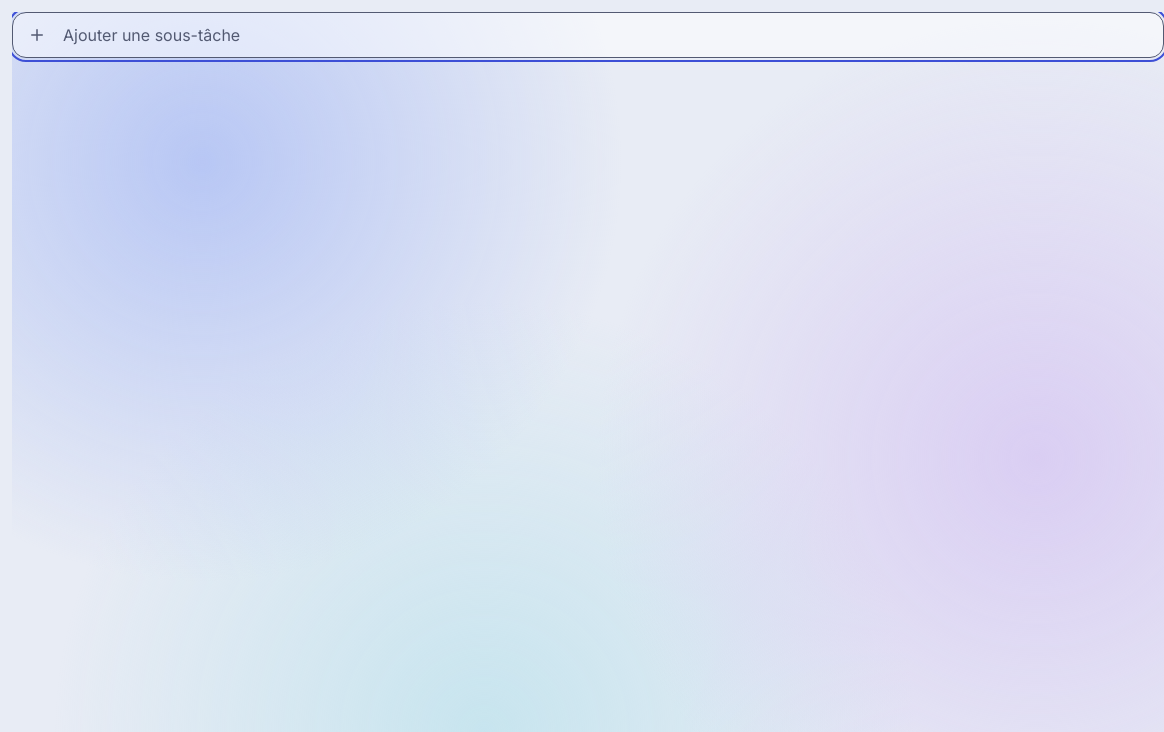
Test: SubtaskAddField › échec : message sous le champ relié au champ, saisie et focus gardés, effacé à l'essai suivant
Type "Préparer le devis" into the field labelled "Ajouter une sous-tâche" at (606, 35), box [63,13,1149,57]
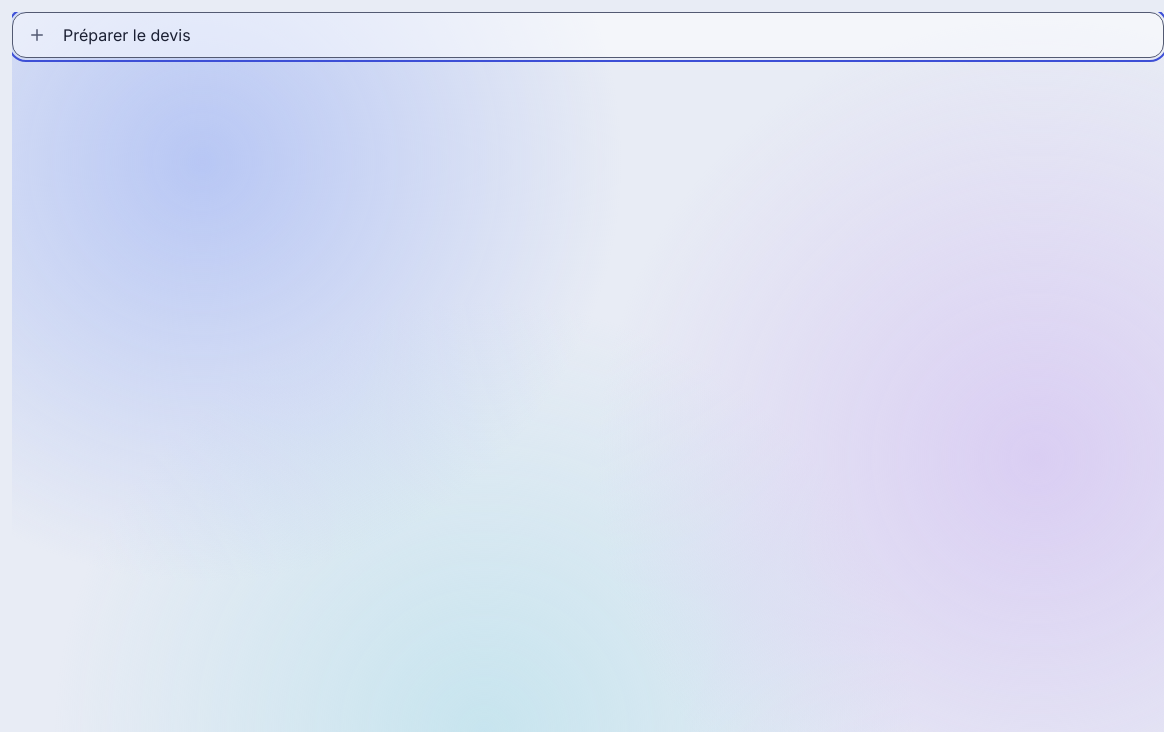
Submit the form named "Ajouter une sous-tâche", box [12,12,1163,58]
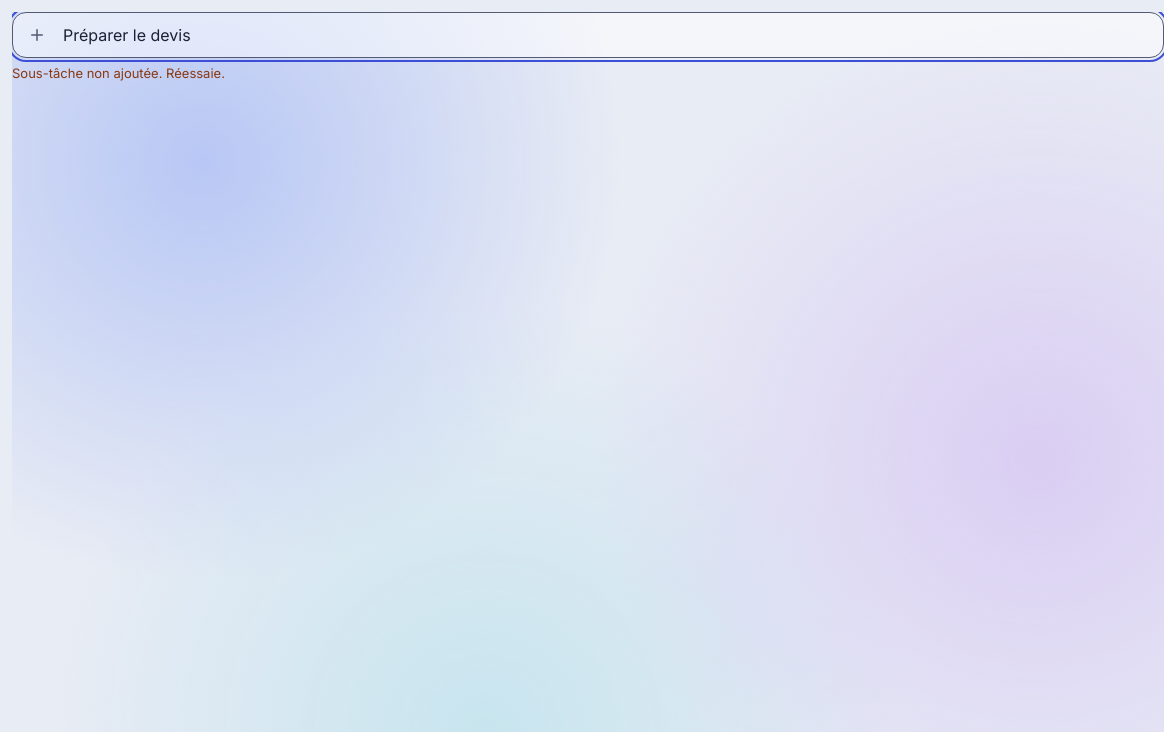
Now the message reads "Sous-tâche non ajoutée. Réessaie.", box [12,65,225,81]
Submit the form named "Ajouter une sous-tâche", box [12,12,1163,82]
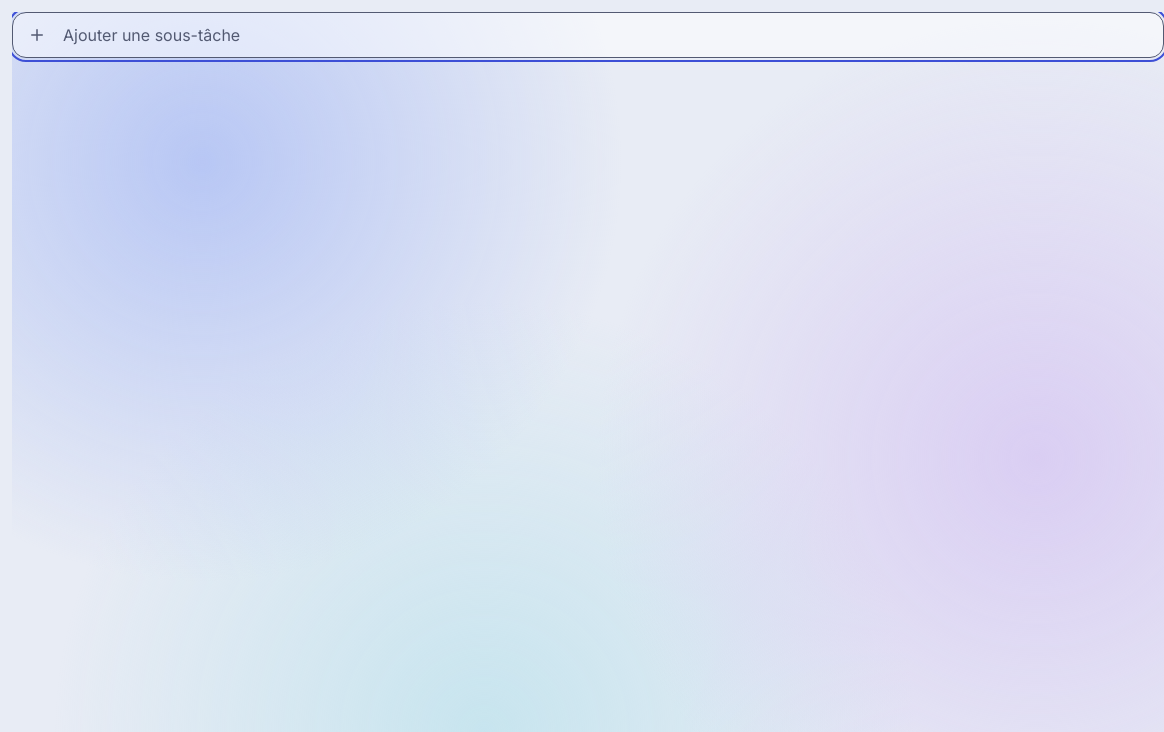
Now the field labelled "Ajouter une sous-tâche" is empty, box [63,13,1149,57]
Now the message "Sous-tâche non ajoutée. Réessaie." is gone
